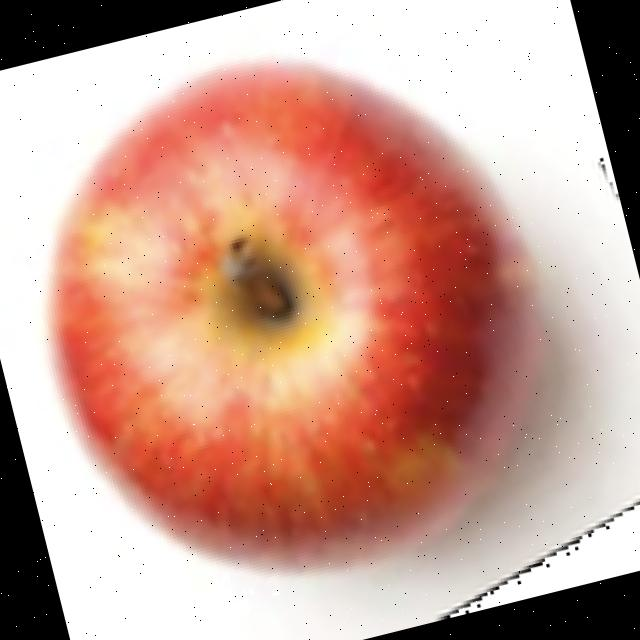apple: (37, 49, 624, 616)
